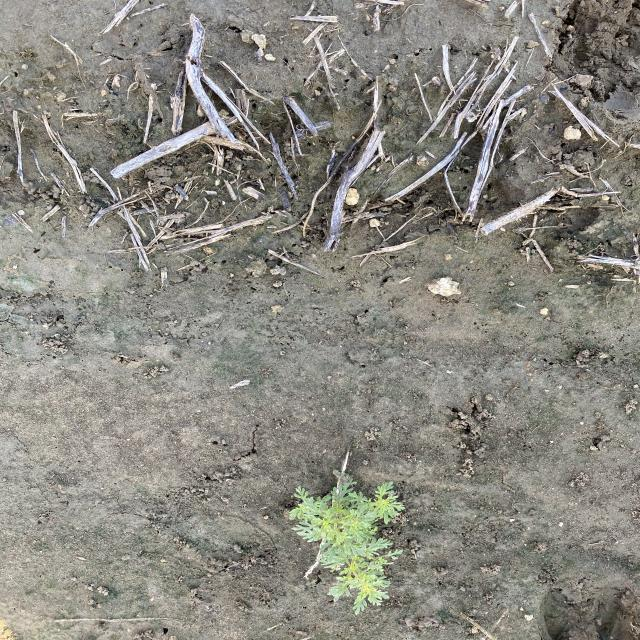Ragweed: (286, 470, 408, 615)
